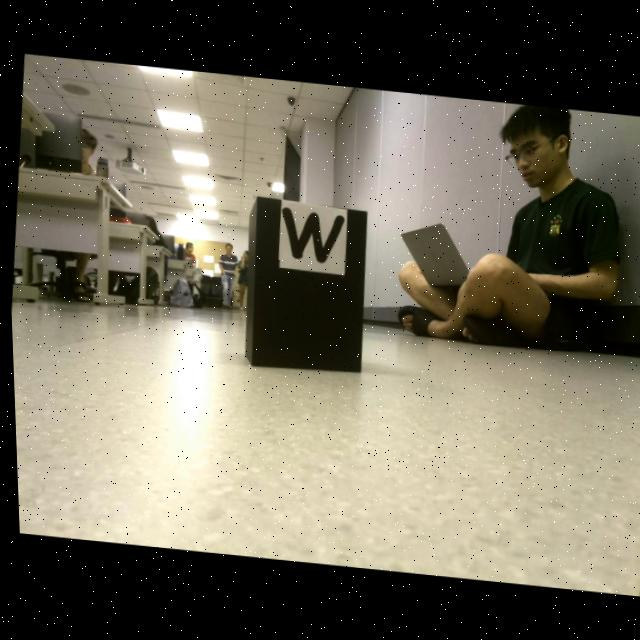W: (280, 206, 344, 262)
